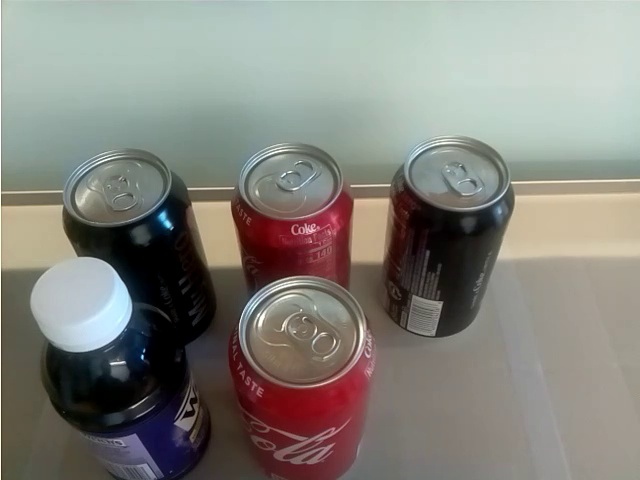cocacola: (230, 272, 370, 474)
cocacola-shadow: (222, 136, 357, 280)
cocacola-zero: (379, 136, 516, 336)
cocacola-zero-shadow: (51, 150, 209, 251)
juice: (29, 253, 216, 480)
